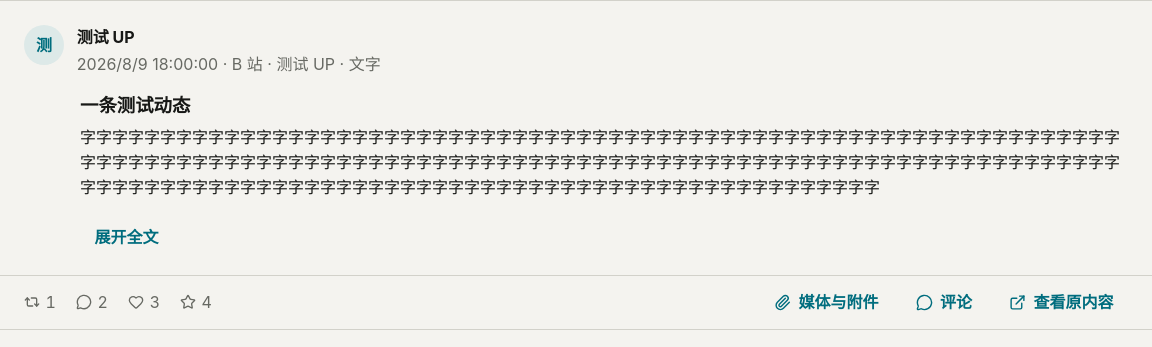
Test case: HistoryCard › shows an error instead of the list preview when expansion fails
Click the button "展开全文". click: click(127, 237)
box: [80,216,173,259]
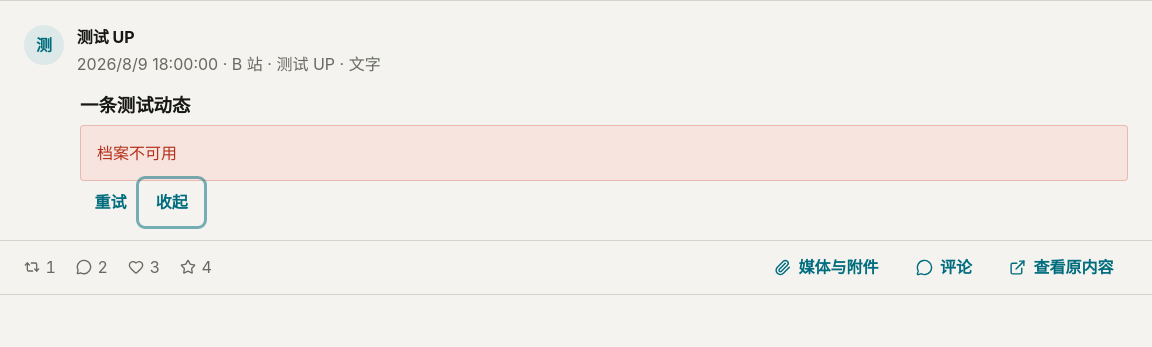
Expected: the text "档案不可用" is shown, [80,126,1128,181]
Expected: the button "重试" is shown, [80,181,141,224]
